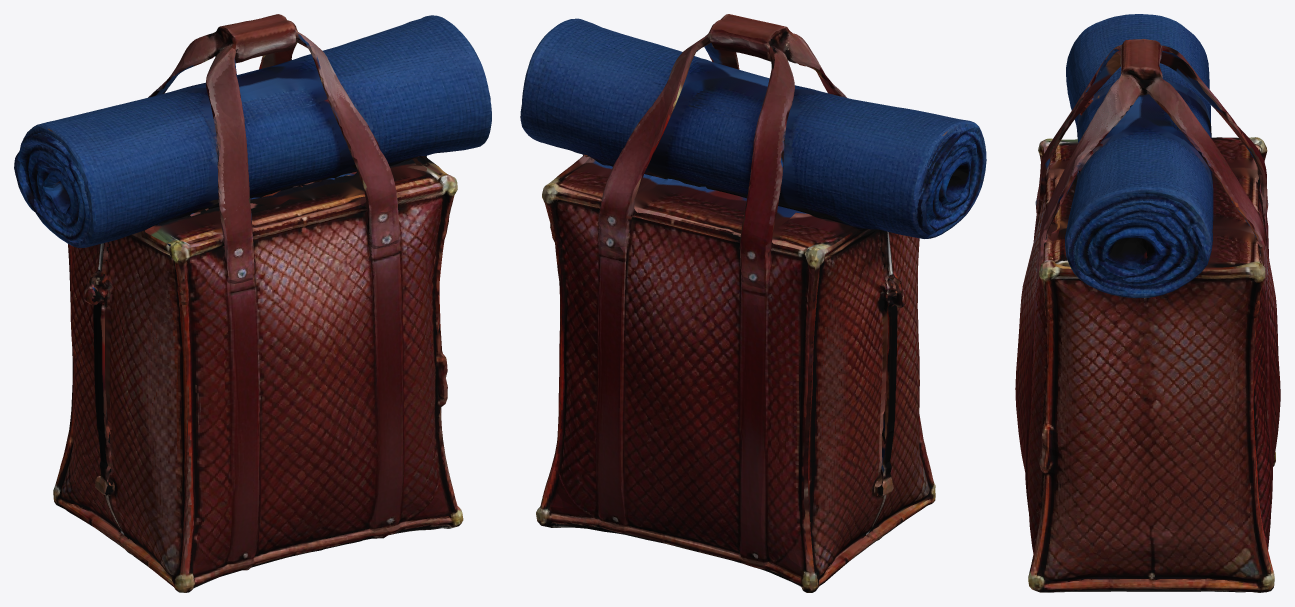
The model's file is traveler_env_coast_iuchi_valley_pack_basket_00001_.glb.
3 renders of one model, left to right at view 1: azimuth 30°, elevation 25°; view 2: azimuth 150°, elevation 25°; view 3: azimuth 270°, elevation 25°, orthographic. The views are drawn at different scales.
Parts seen in each view (by area): view 1: temp_mesh.ply; view 2: temp_mesh.ply; view 3: temp_mesh.ply.
Boxes of the visible parts, left/top/right/bottom form: temp_mesh.ply: left=14, top=14, right=491, bottom=592; temp_mesh.ply: left=520, top=14, right=986, bottom=592; temp_mesh.ply: left=1015, top=14, right=1280, bottom=592.
Size of the model in its own units: 1.69 by 1.97 by 0.9826.
1 material, 1 textured.
